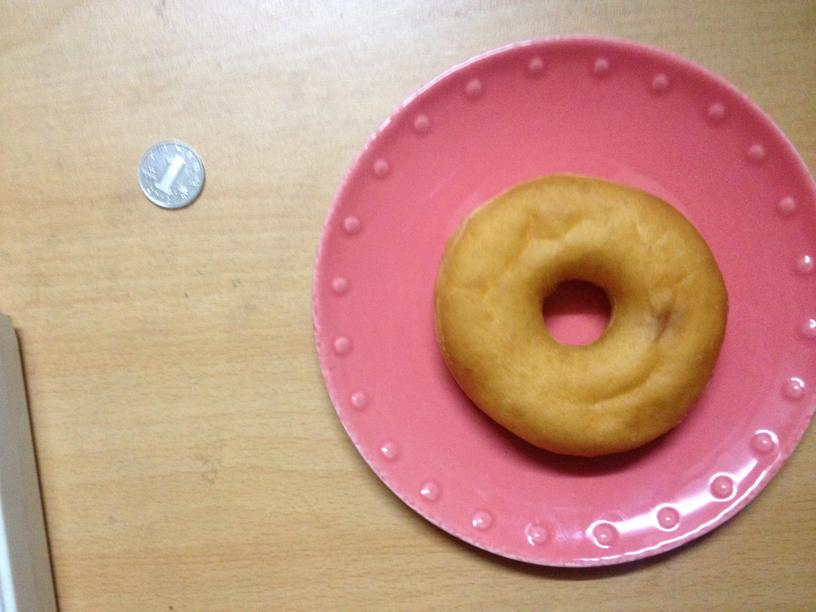coin: (136, 141, 205, 209)
doughnut: (432, 172, 730, 456)
